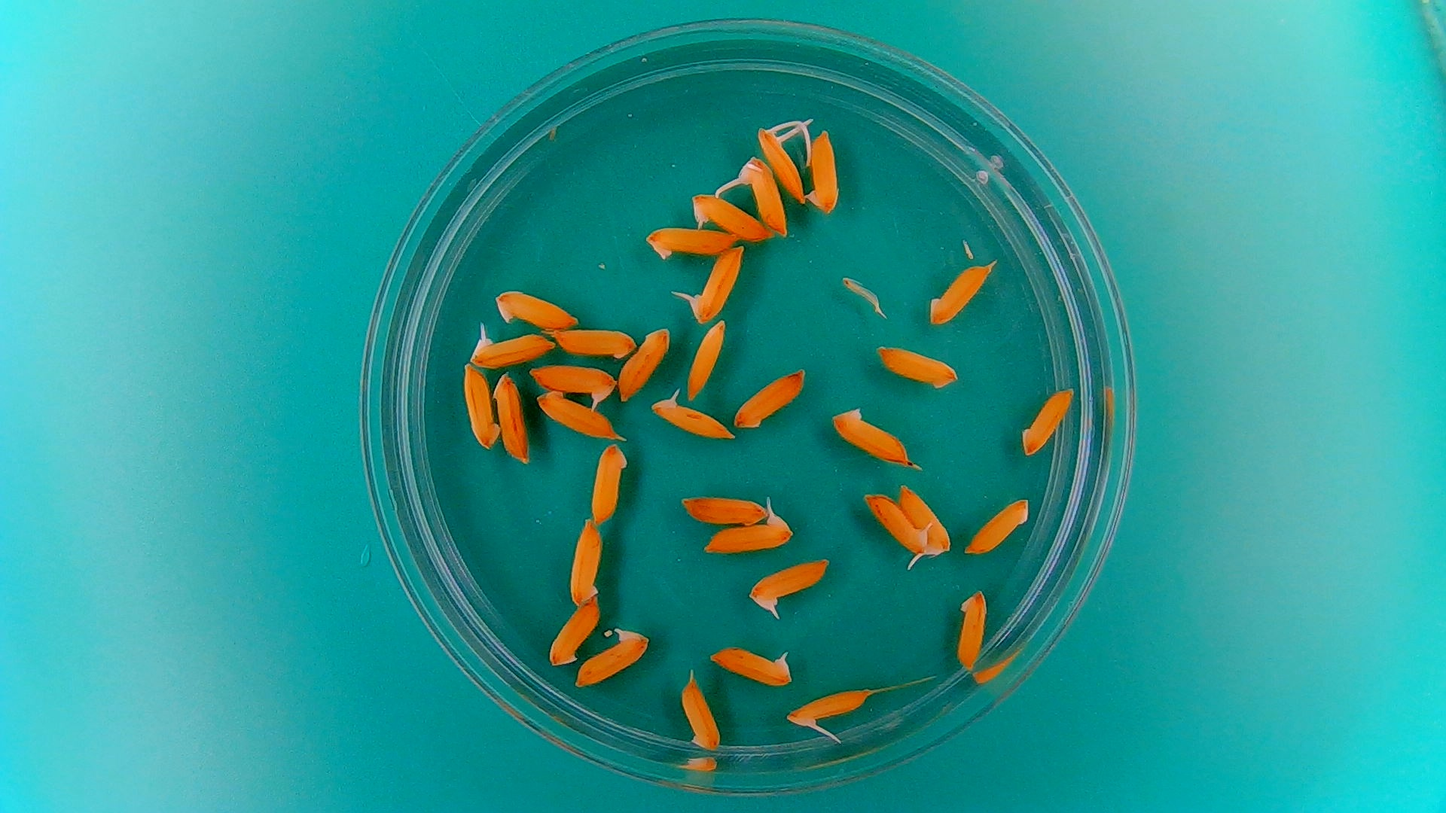no: (828, 401, 918, 468), (926, 253, 997, 327), (733, 365, 811, 431), (533, 390, 623, 445), (873, 342, 961, 391), (617, 323, 671, 401), (676, 668, 724, 754), (545, 596, 602, 668), (1020, 385, 1076, 458), (459, 360, 502, 453), (965, 495, 1032, 554), (492, 286, 581, 330), (492, 370, 532, 467), (676, 490, 776, 528), (685, 317, 730, 400), (588, 441, 631, 524), (644, 222, 732, 262), (566, 517, 605, 607), (804, 127, 842, 215), (546, 326, 637, 359), (954, 586, 988, 671)
yes: (688, 188, 776, 242), (749, 556, 830, 610), (899, 481, 954, 560), (688, 242, 743, 321), (572, 630, 646, 688), (865, 494, 931, 557), (529, 361, 617, 408), (738, 155, 789, 236), (757, 117, 803, 203), (705, 515, 796, 556), (650, 394, 730, 440), (468, 329, 555, 368), (789, 687, 870, 727), (713, 649, 787, 687)
